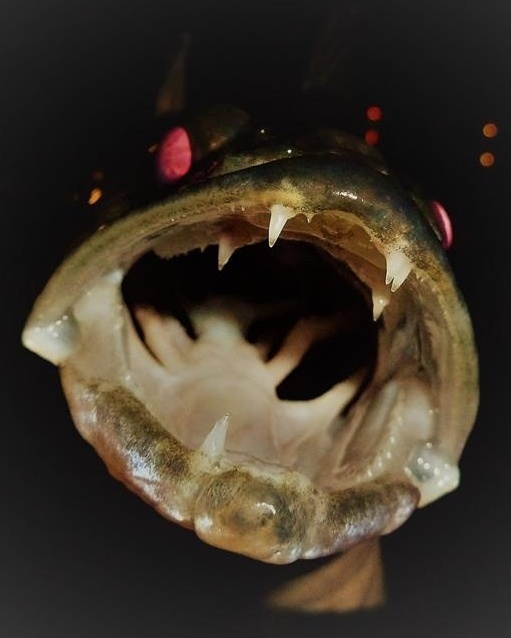Sander lucioperca: (20, 20, 491, 618)
